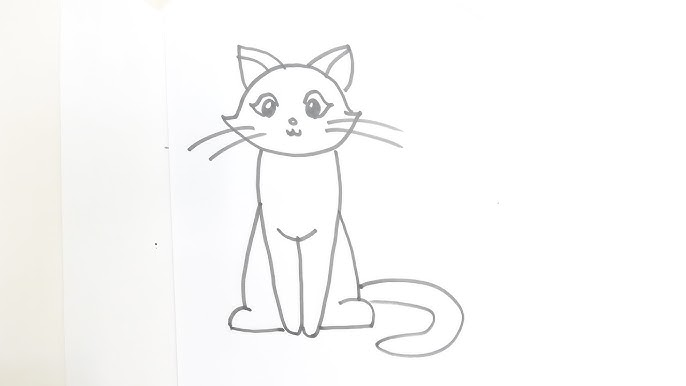cat: (183, 24, 474, 359)
